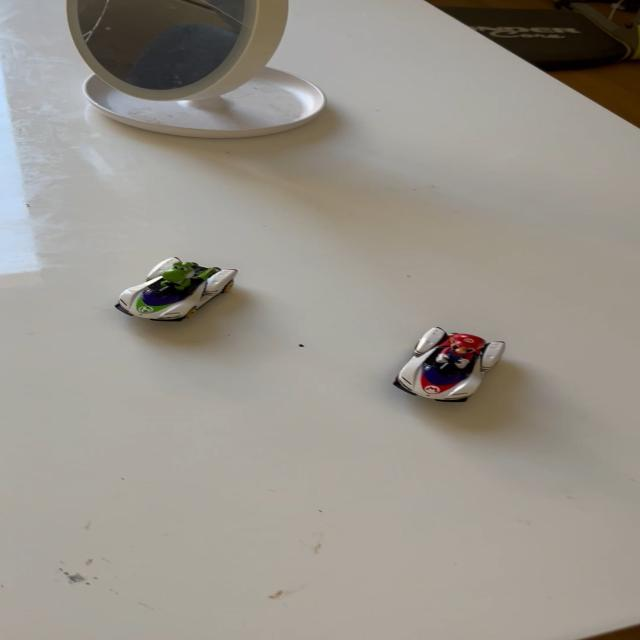mario: (372, 320, 520, 412)
yoshi: (101, 250, 251, 328)
